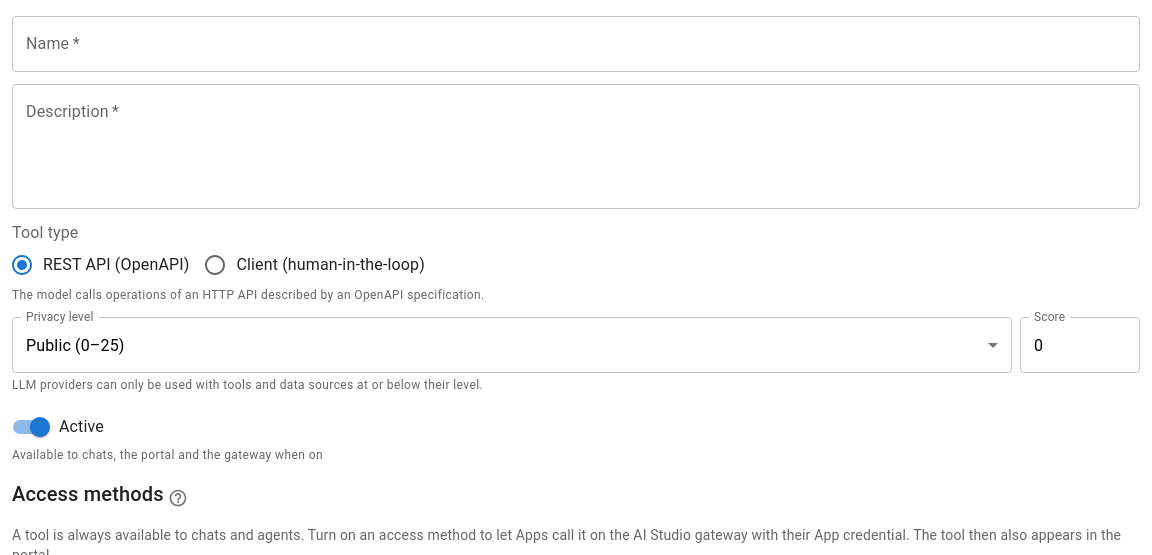
it: ToolForm Active switch and privacy level › rejects an empty privacy score with the in-page message
Type "Time" into the field labelled "Name *" at [576, 44], box 12,16 -> 1140,72
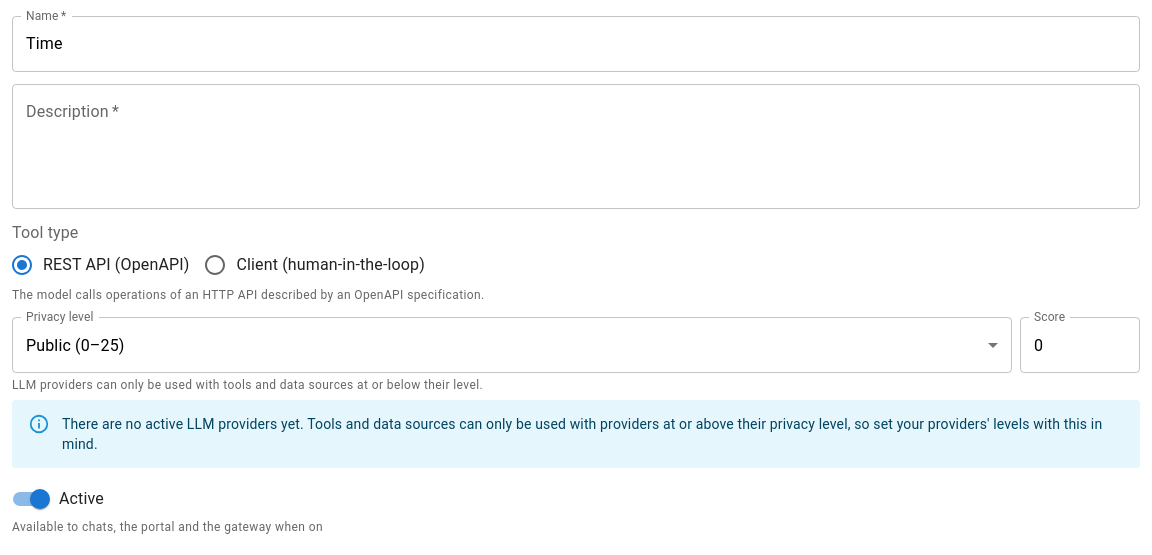
Type "Clock" into the text box labelled "Description *" at [576, 146], box 26,100 -> 1126,192
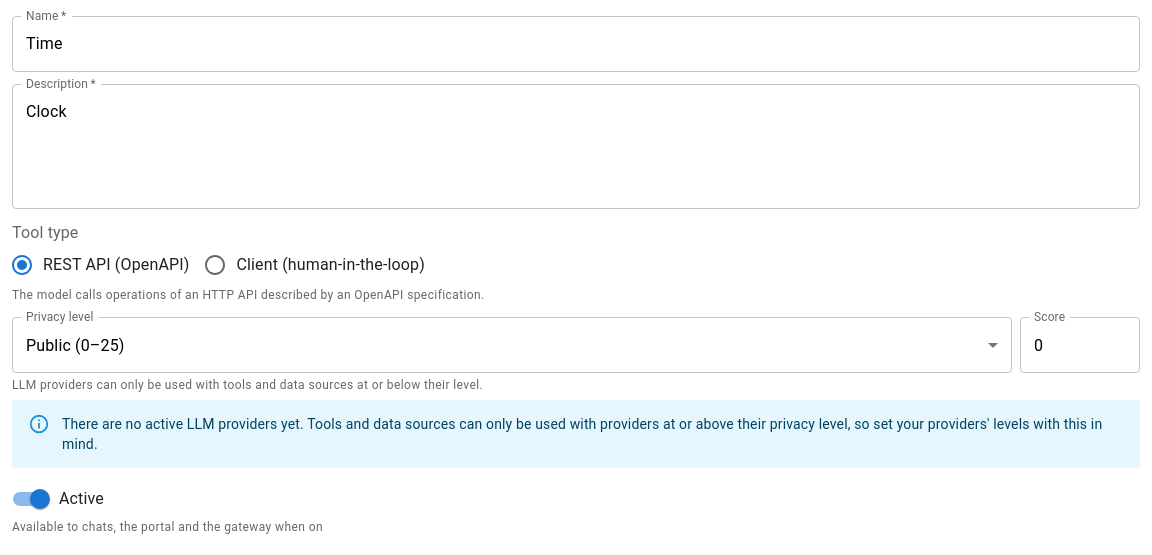
Clear the number field named "Privacy level score" at [1080, 345], box 1020,317 -> 1140,373
(page scrolled)
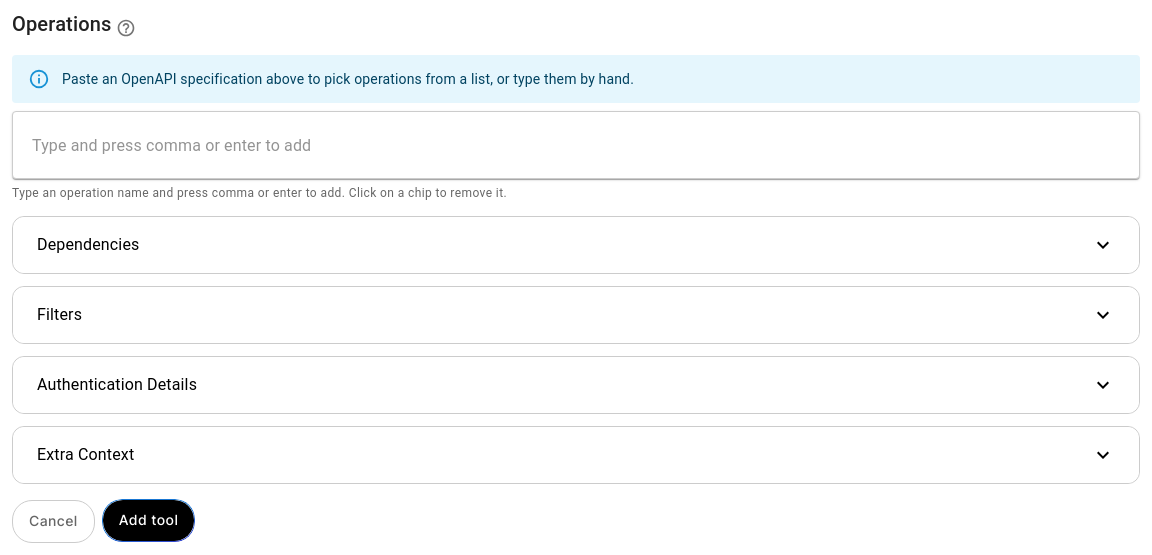
Click the button "Add tool" at [148, 520], box 103,500 -> 194,541
(page scrolled)
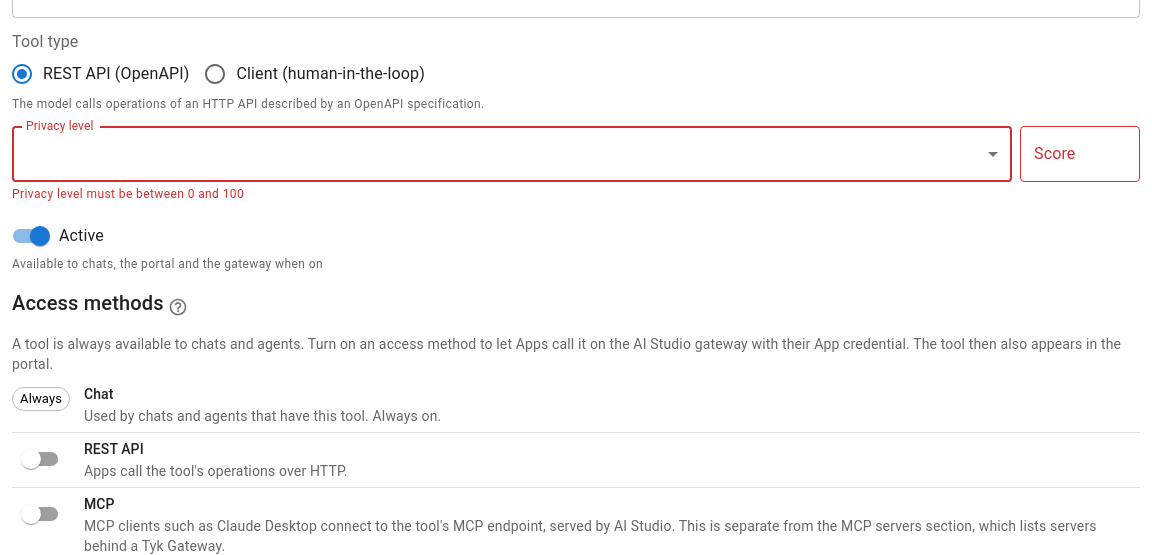
Now the text "Privacy level must be between 0 and 100" is shown, box 12,187 -> 244,201
